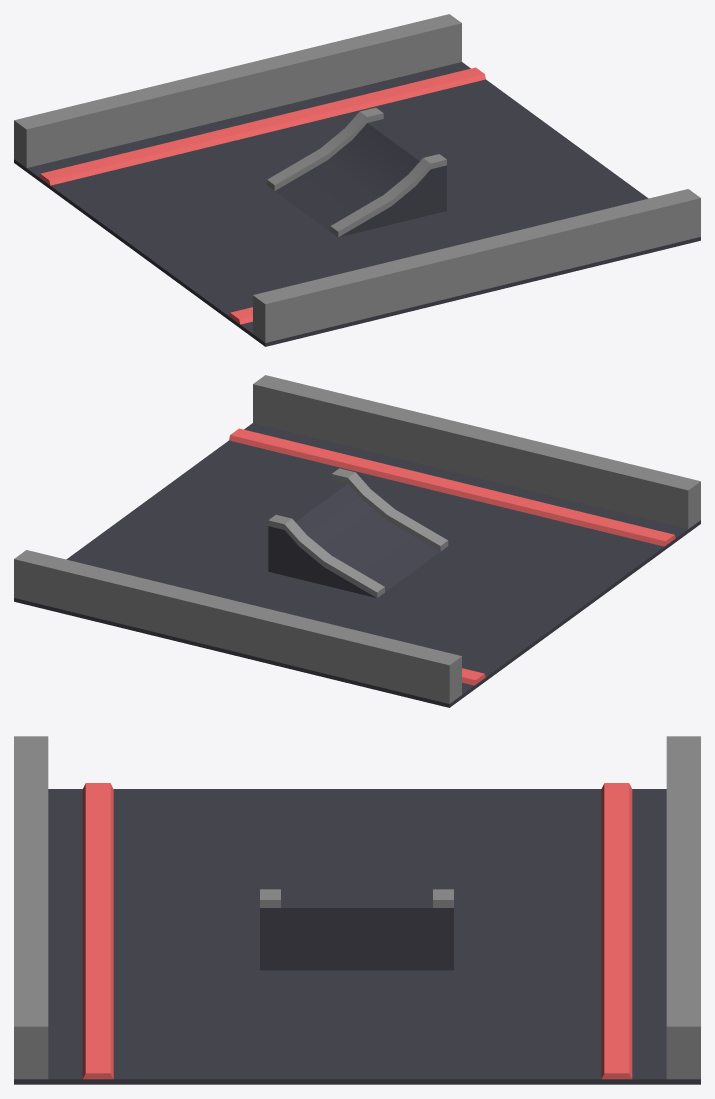
Rendered from kartkids_base_trk_480_jmp_01_short_25pct_1x1.glb.
The picture shows the model from 3 angles, top to bottom: view 1: azimuth 30°, elevation 25°; view 2: azimuth 150°, elevation 25°; view 3: azimuth 270°, elevation 25°; orthographic projection. The views are drawn at different scales.
Visible parts, largest first — view 1: kartkids_base_trk_010_rd_straight_1x1.025, kartkids_base_trk_020_trn_90_l_1x1.006, 1.003; view 2: kartkids_base_trk_010_rd_straight_1x1.025, kartkids_base_trk_020_trn_90_l_1x1.006, 1.003; view 3: kartkids_base_trk_010_rd_straight_1x1.025, kartkids_base_trk_020_trn_90_l_1x1.006, 1.003.
Part boxes in pixels (x1,y1,x2,y2): kartkids_base_trk_010_rd_straight_1x1.025: (14,62,700,346); kartkids_base_trk_020_trn_90_l_1x1.006: (14,14,700,342); 1.003: (267,107,446,237); kartkids_base_trk_010_rd_straight_1x1.025: (14,423,700,707); kartkids_base_trk_020_trn_90_l_1x1.006: (14,375,700,703); 1.003: (268,468,448,597); kartkids_base_trk_010_rd_straight_1x1.025: (14,783,700,1084); kartkids_base_trk_020_trn_90_l_1x1.006: (14,736,700,1079); 1.003: (260,889,453,970).
Bounding box in the file's own units: 10 × 1.21 × 10.
